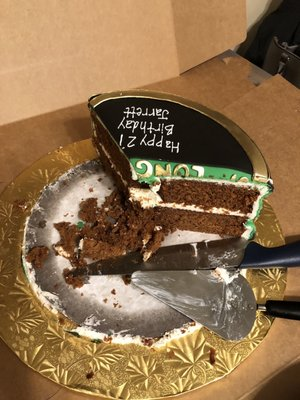sushi: (22, 97, 273, 338)
